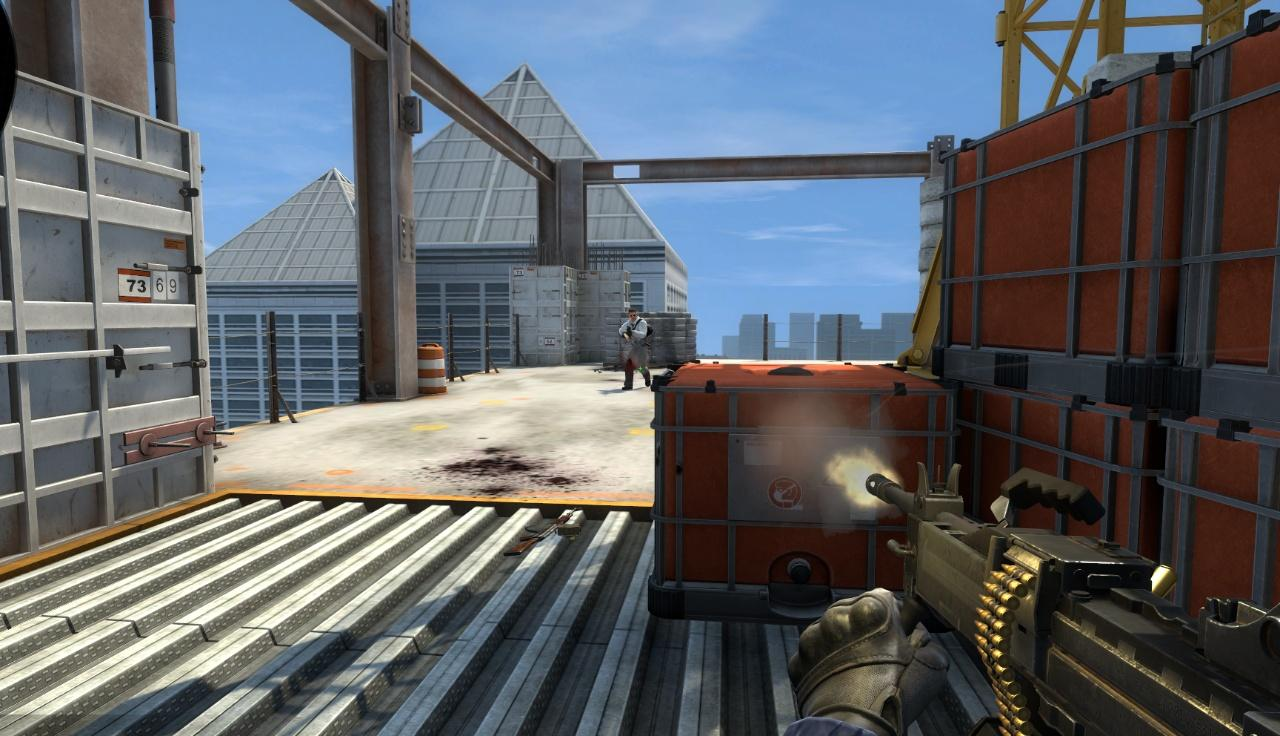rifle: (857, 454, 1280, 736)
tt: (624, 310, 650, 390)
tthead: (628, 310, 637, 321)
